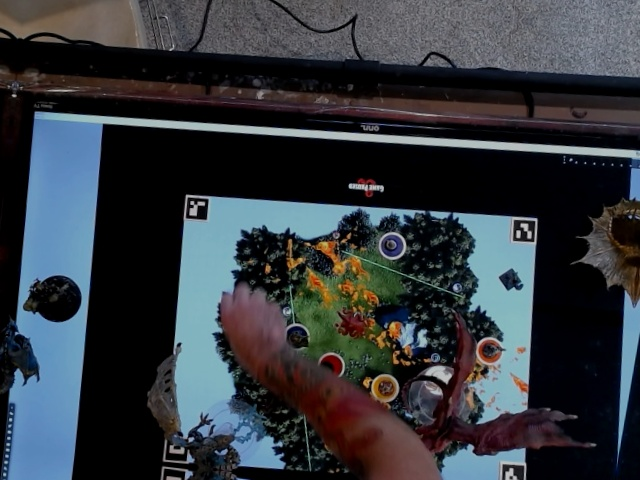blue: (275, 315, 313, 353)
orange: (471, 331, 510, 371)
red: (311, 348, 351, 381)
violet: (373, 228, 410, 265)
yellow: (362, 368, 404, 406)
